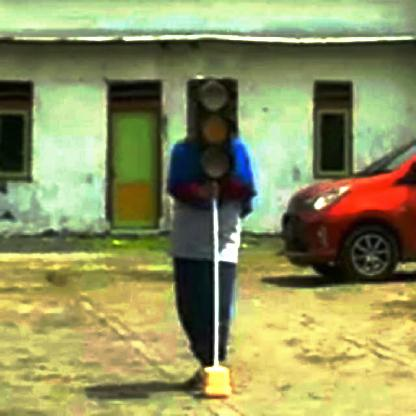Traffic Light -Yellow-: (197, 79, 235, 184)
